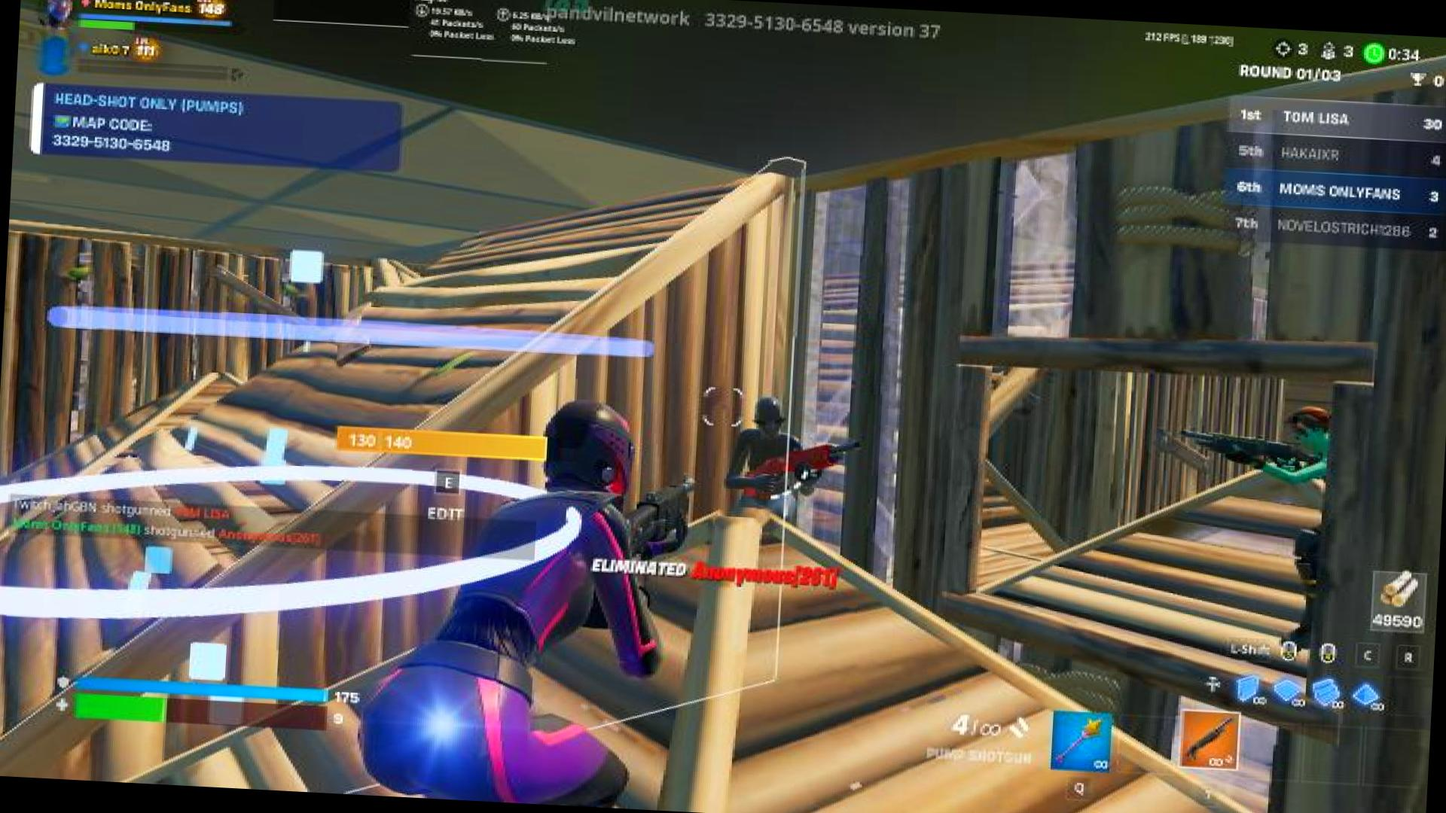player: (1211, 401, 1348, 635), (710, 379, 835, 530)
